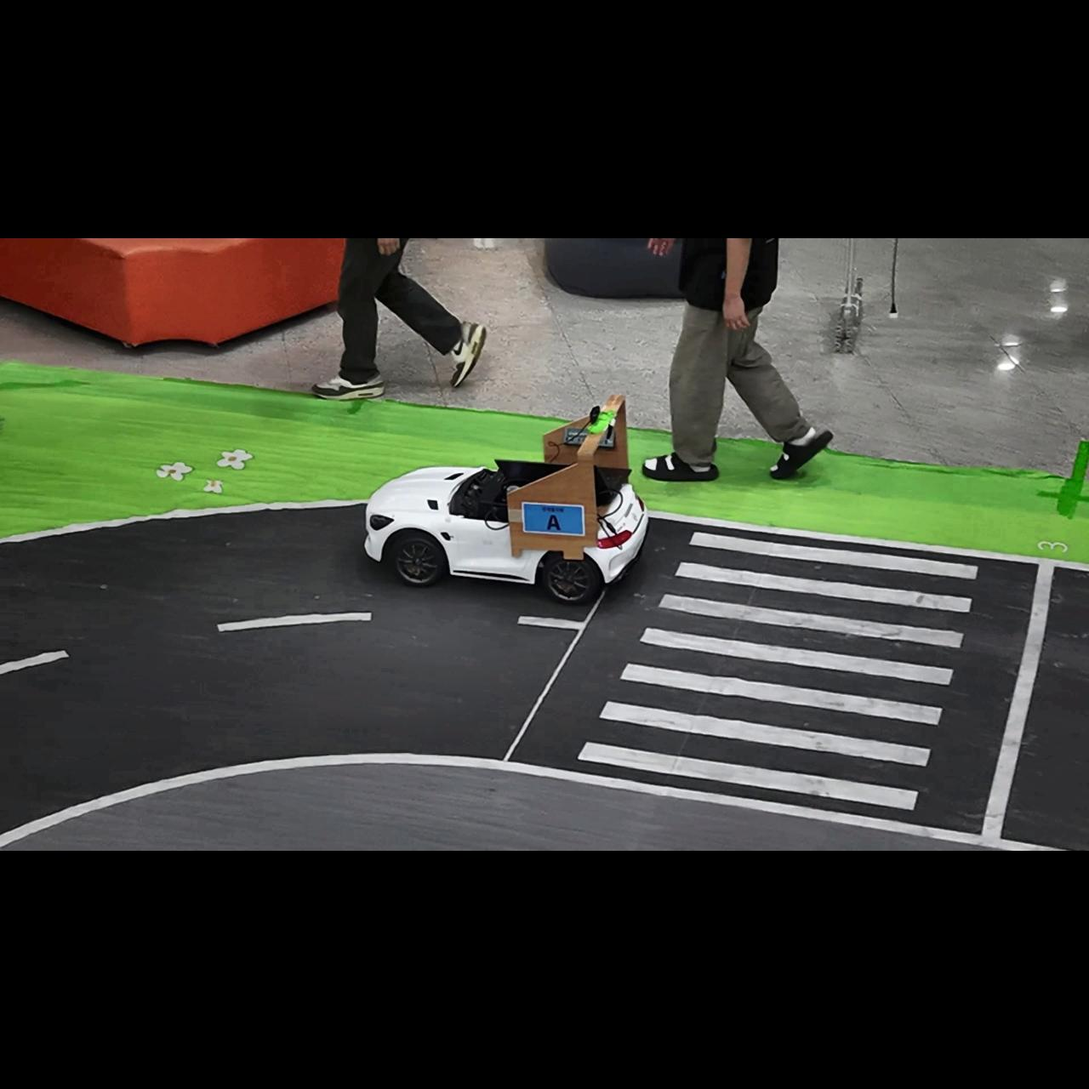broken_line: (217, 612, 373, 632), (0, 650, 69, 675), (517, 616, 583, 630)
crosswalk: (577, 531, 979, 811)
